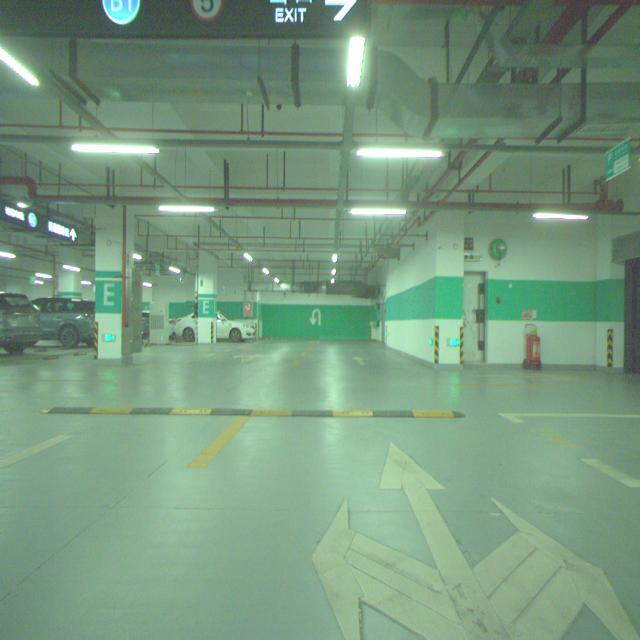pillar: (95, 205, 133, 364)
